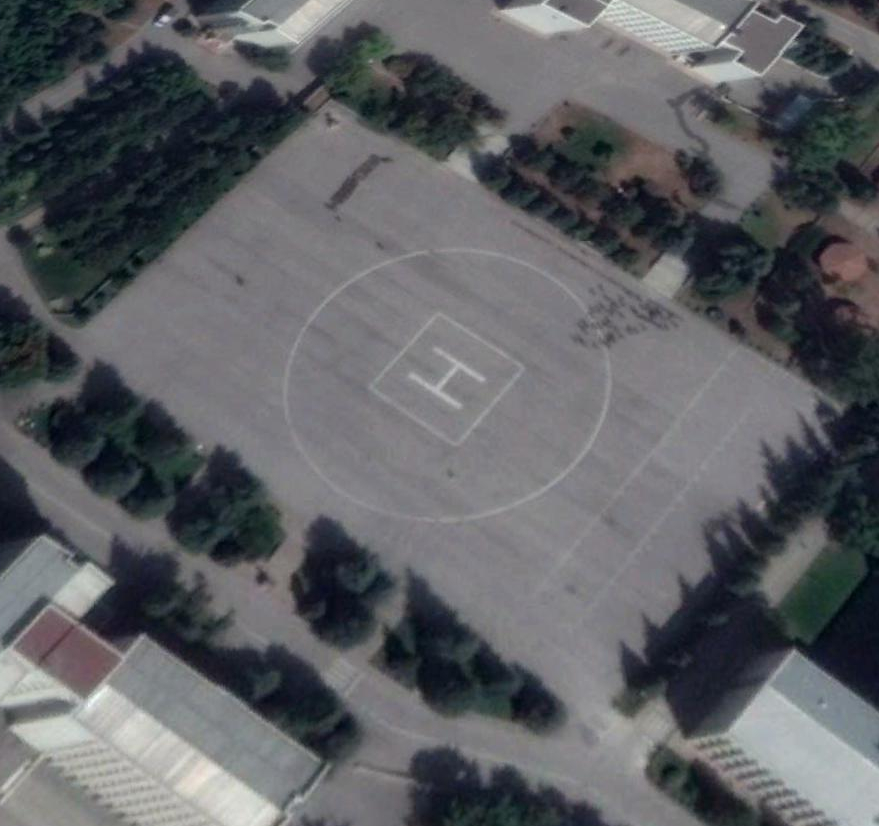heliport: (391, 331, 494, 423)
